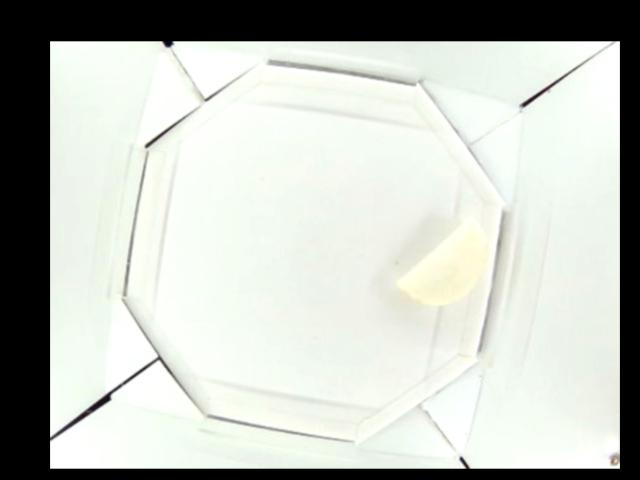Mooli: (397, 214, 485, 303)
